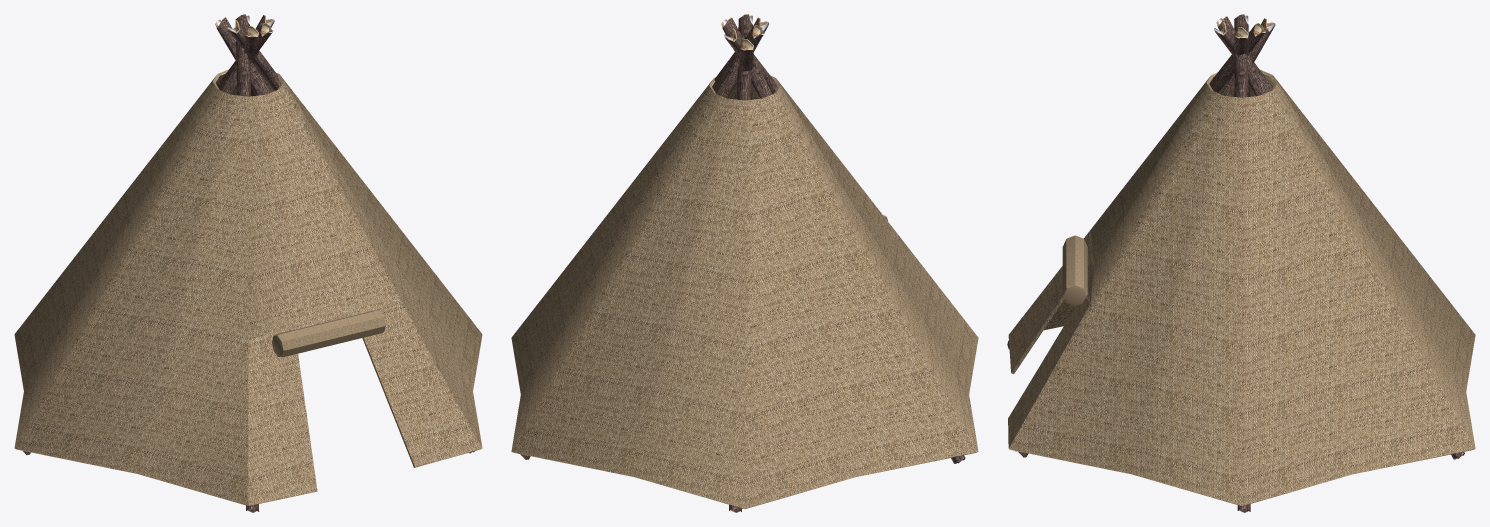
File: tepee.FBX
The picture shows the model from 3 angles, left to right: view 1: azimuth 30°, elevation 25°; view 2: azimuth 150°, elevation 25°; view 3: azimuth 270°, elevation 25°; orthographic projection.
Visible parts, largest first — view 1: Cone001, Cylinder050, Cylinder044, Cylinder045, Cylinder046; view 2: Cone001, Cylinder048, Cylinder049, Cylinder047, Cylinder046, Cylinder044; view 3: Cone001, Cylinder050, Cylinder046, Cylinder044, Cylinder047, Cylinder045.
Part boxes in pixels (left/top/right/bottom): Cone001: left=14, top=69, right=482, bottom=505; Cylinder050: left=272, top=310, right=385, bottom=356; Cylinder044: left=235, top=14, right=259, bottom=512; Cylinder045: left=215, top=17, right=474, bottom=453; Cylinder046: left=227, top=20, right=281, bottom=91; Cone001: left=511, top=76, right=978, bottom=508; Cylinder048: left=729, top=14, right=752, bottom=512; Cylinder049: left=721, top=17, right=965, bottom=463; Cylinder047: left=518, top=17, right=768, bottom=459; Cylinder046: left=712, top=25, right=764, bottom=92; Cylinder044: left=724, top=28, right=777, bottom=93; Cone001: left=1008, top=69, right=1475, bottom=506; Cylinder050: left=1062, top=235, right=1087, bottom=306; Cylinder046: left=1234, top=14, right=1250, bottom=512; Cylinder044: left=1007, top=23, right=1265, bottom=349; Cylinder047: left=1216, top=16, right=1464, bottom=459; Cylinder045: left=1015, top=18, right=1275, bottom=457.
Bounding box in the file's own units: 33.8 × 29.35 × 26.71.
